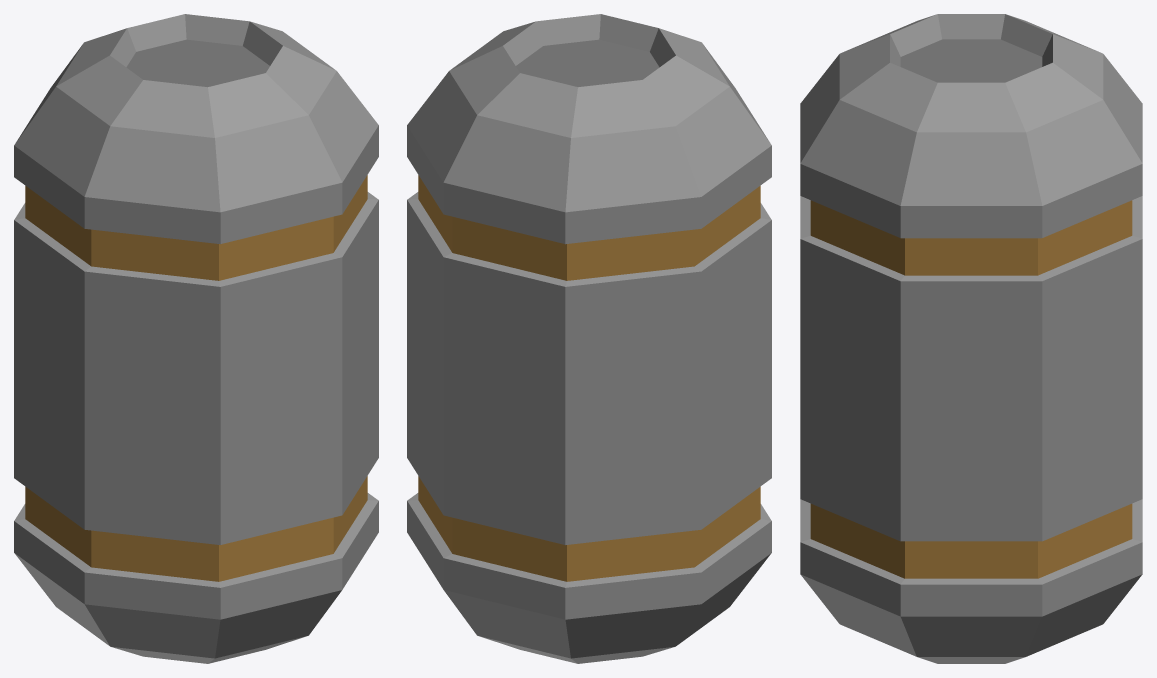
File: Props_Vessel_Short.glb
The picture shows the model from 3 angles, left to right: view 1: azimuth 30°, elevation 25°; view 2: azimuth 150°, elevation 25°; view 3: azimuth 270°, elevation 25°; orthographic projection.
Visible parts, largest first — view 1: Props_Vessel_Short; view 2: Props_Vessel_Short; view 3: Props_Vessel_Short.
Part boxes in pixels (x1,y1,x2,y2): Props_Vessel_Short: (14,14,378,663); Props_Vessel_Short: (407,14,771,663); Props_Vessel_Short: (800,14,1142,663).
Size of the model in its own units: 0.2873 by 0.538 by 0.2873.
